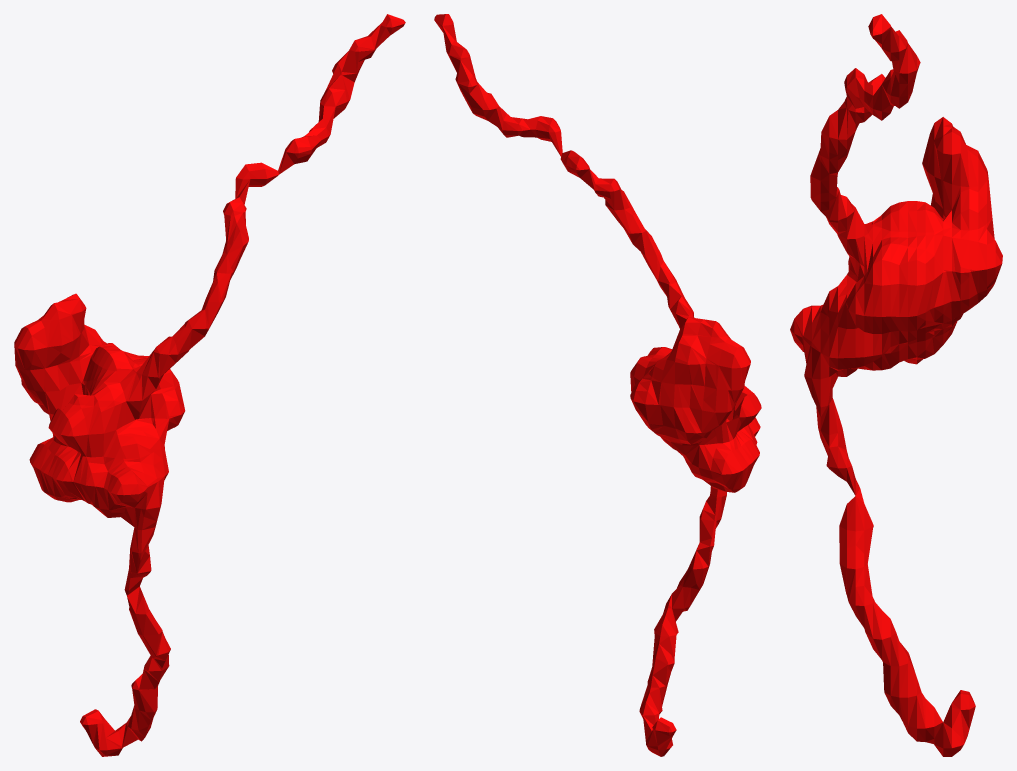
File: sppA_coarse.dae
The picture shows the model from 3 angles, left to right: view 1: azimuth 30°, elevation 25°; view 2: azimuth 150°, elevation 25°; view 3: azimuth 270°, elevation 25°; orthographic projection. The views are drawn at different scales.
Parts seen in each view (by area): view 1: sppA; view 2: sppA; view 3: sppA.
Boxes of the visible parts, x1,y1,x2,y2 form: sppA: (14, 14, 405, 756); sppA: (434, 14, 761, 756); sppA: (790, 14, 1002, 756).
Bounding box in the file's own units: 171 × 316 × 68.05.
